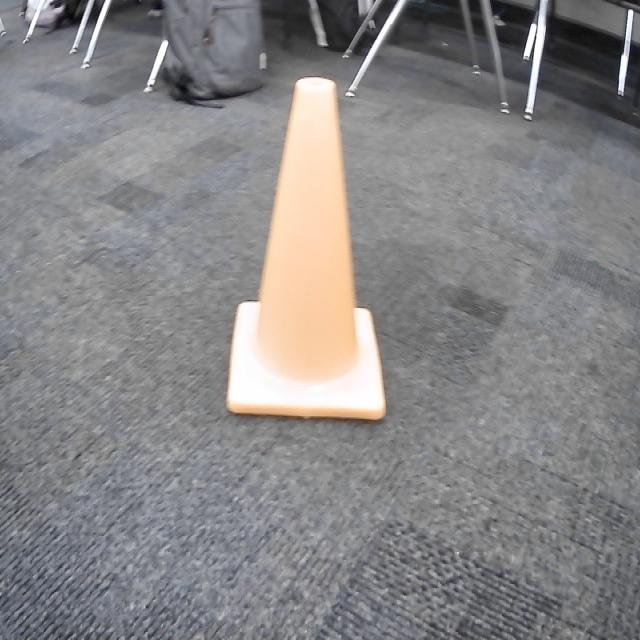cone: (222, 67, 392, 430)
